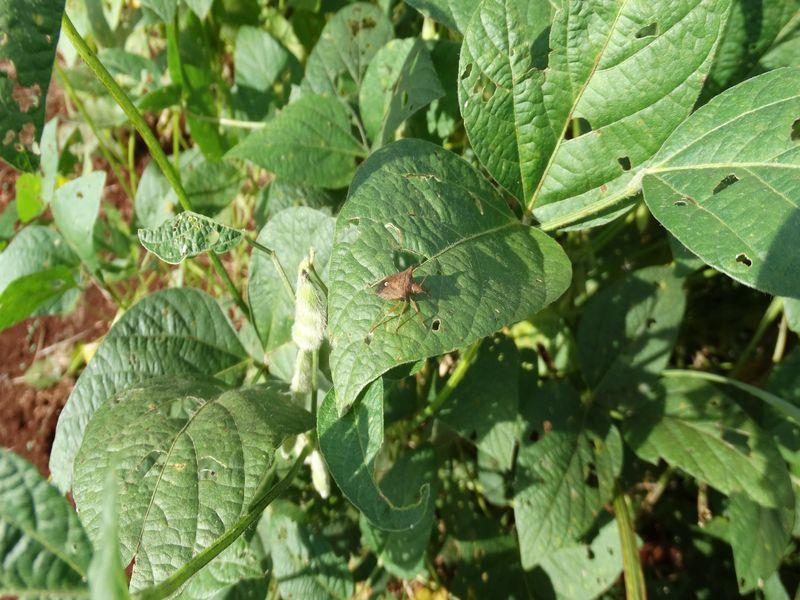Euschistus_heros_adulto: (358, 261, 435, 326)
